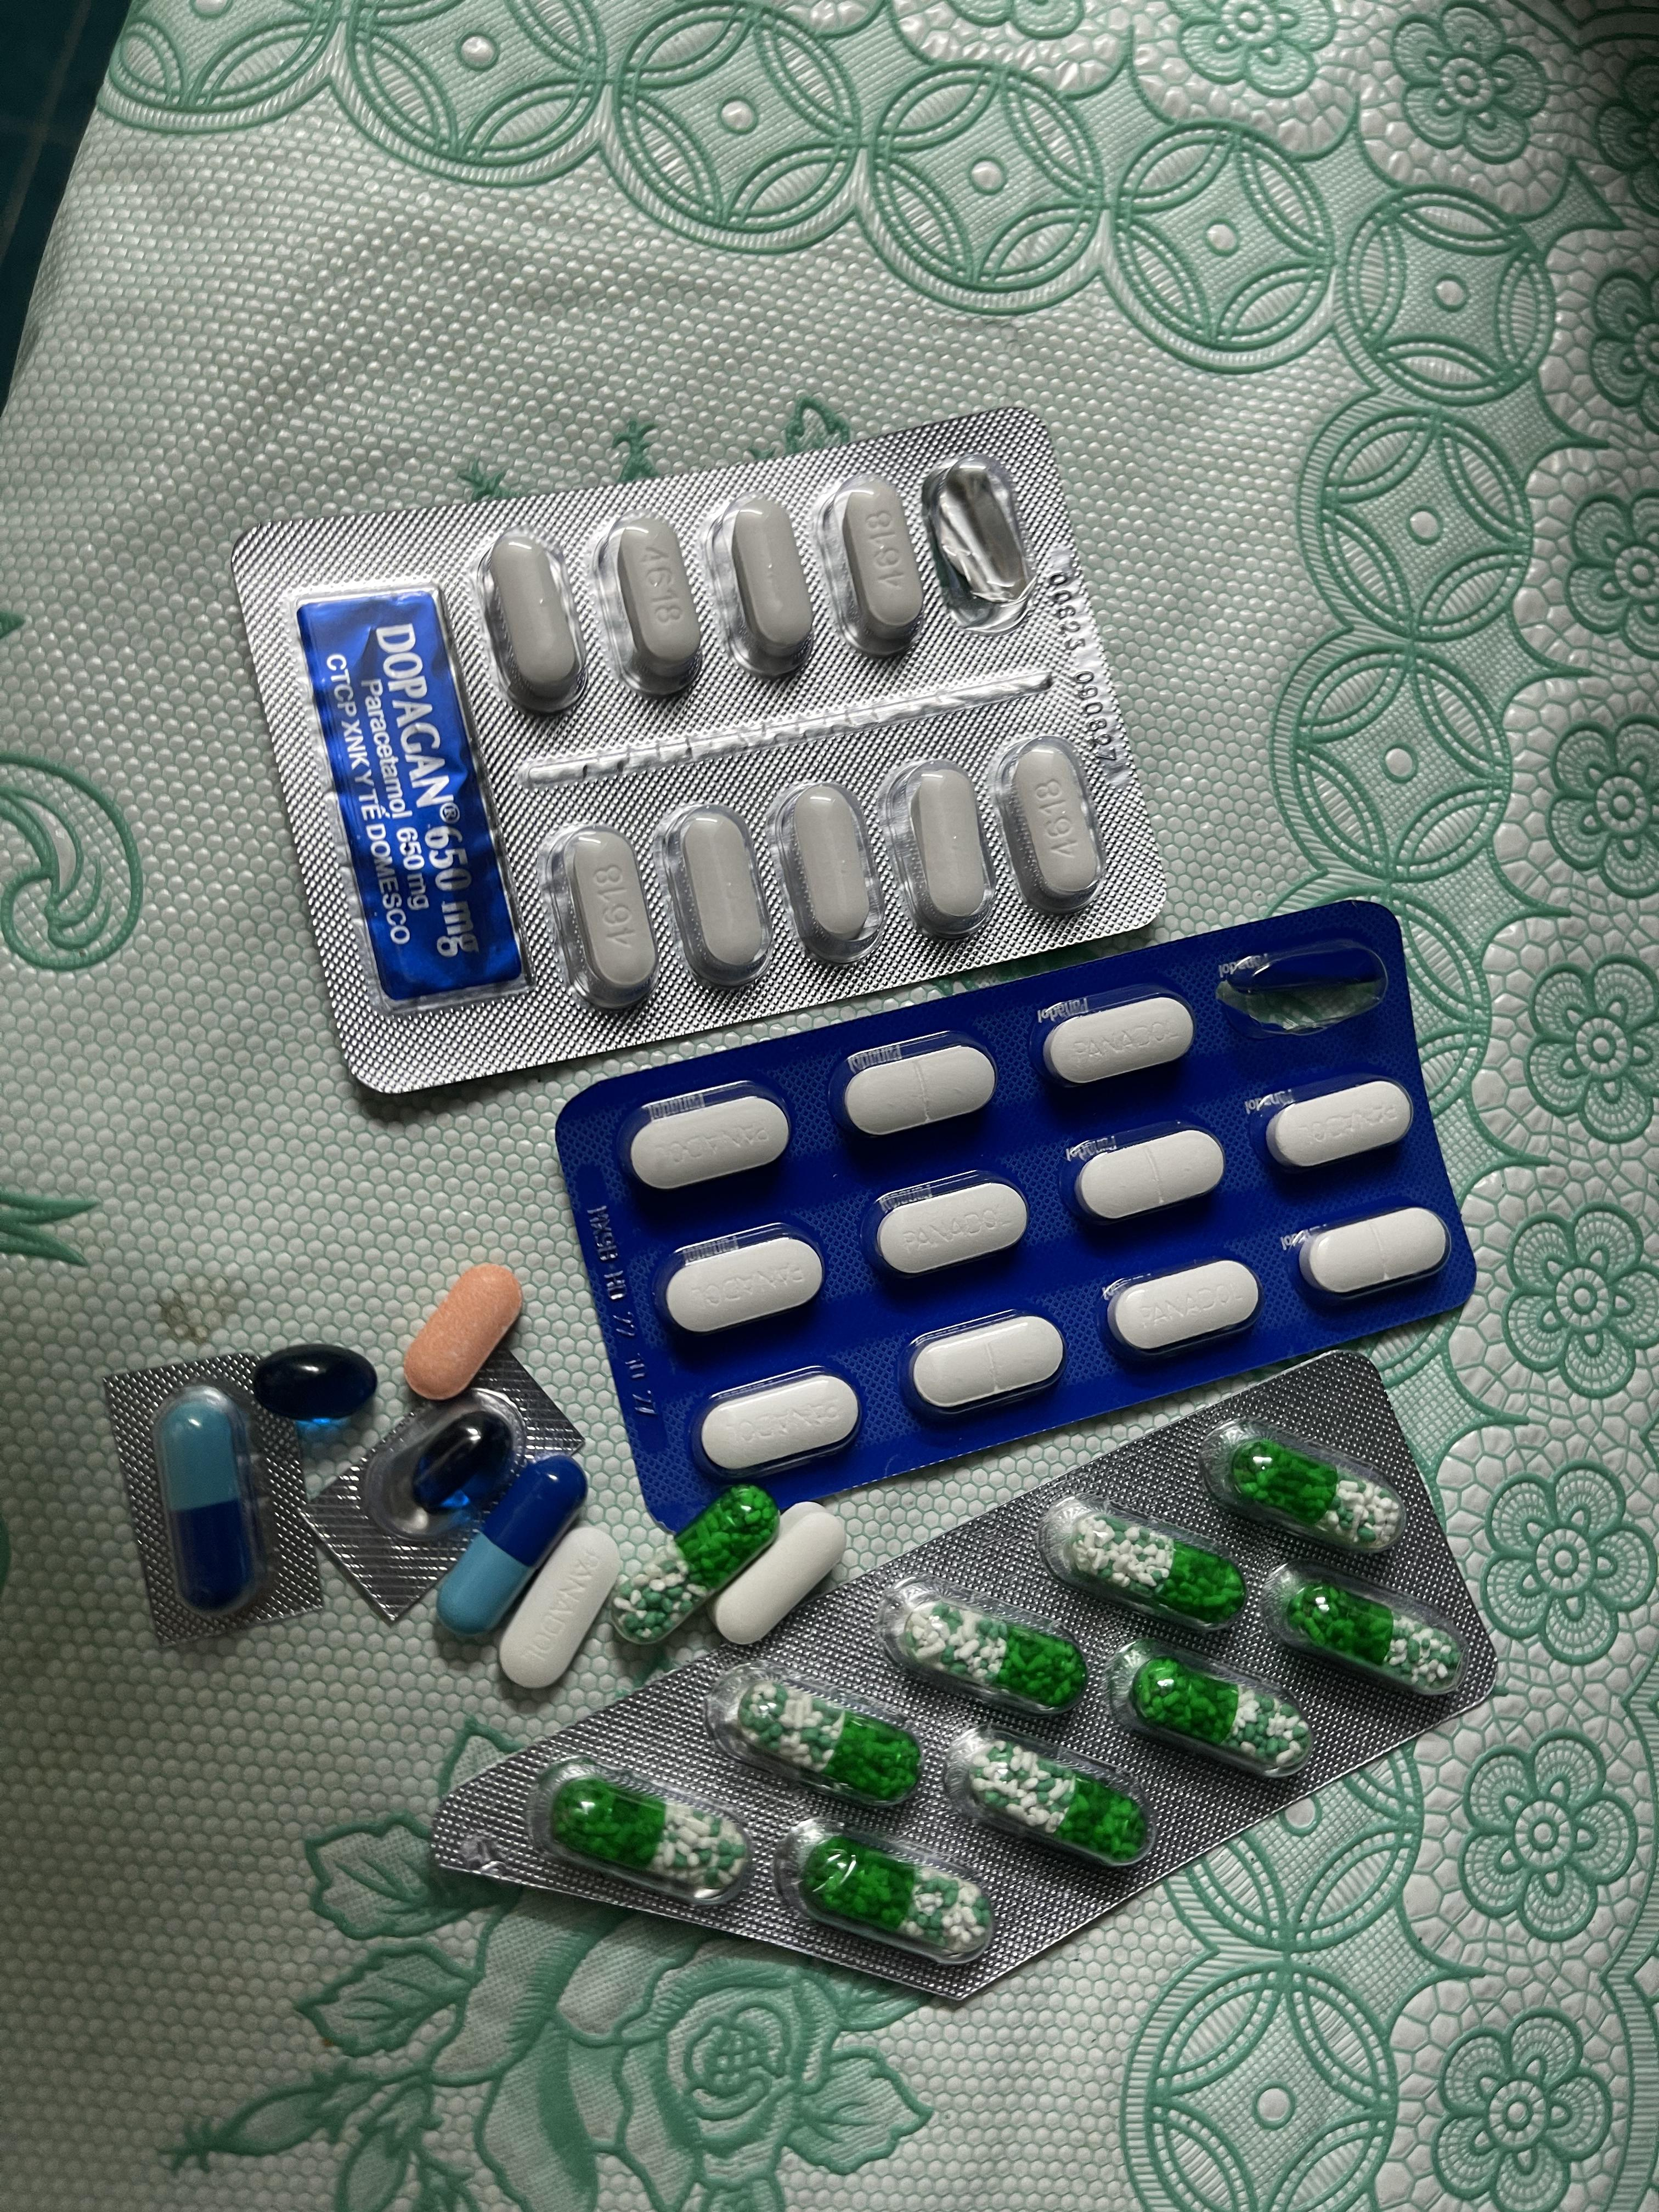Lincomyxin_500mg: (249, 1345, 380, 1433), (408, 1413, 511, 1514)
Loratadine_10mg: (403, 1270, 525, 1399)
Paracetamol_350mg: (493, 1526, 620, 1689), (624, 1083, 795, 1193), (694, 1369, 861, 1479), (835, 1035, 1002, 1141), (904, 1315, 1068, 1423), (659, 1231, 824, 1334), (1295, 1204, 1457, 1306), (873, 1174, 1035, 1275), (1107, 1258, 1260, 1353), (1072, 1127, 1222, 1223), (1262, 1078, 1417, 1170), (1044, 996, 1199, 1085)
Paracetamol_500mg: (538, 824, 659, 1007), (657, 803, 775, 982), (706, 491, 819, 678), (817, 475, 931, 660), (594, 514, 706, 697), (477, 529, 587, 714), (770, 780, 884, 958), (880, 759, 995, 934), (995, 737, 1108, 911), (713, 1501, 847, 1644)
Paracetamol_650mg: (605, 1480, 781, 1641), (796, 1836, 992, 1952), (1127, 1655, 1310, 1778), (964, 1742, 1143, 1864), (739, 1683, 918, 1803), (556, 1780, 744, 1893), (1281, 1580, 1460, 1689), (897, 1602, 1082, 1709), (1229, 1437, 1403, 1548), (1073, 1517, 1243, 1625)
pill: (430, 1453, 587, 1644), (155, 1385, 267, 1618)
